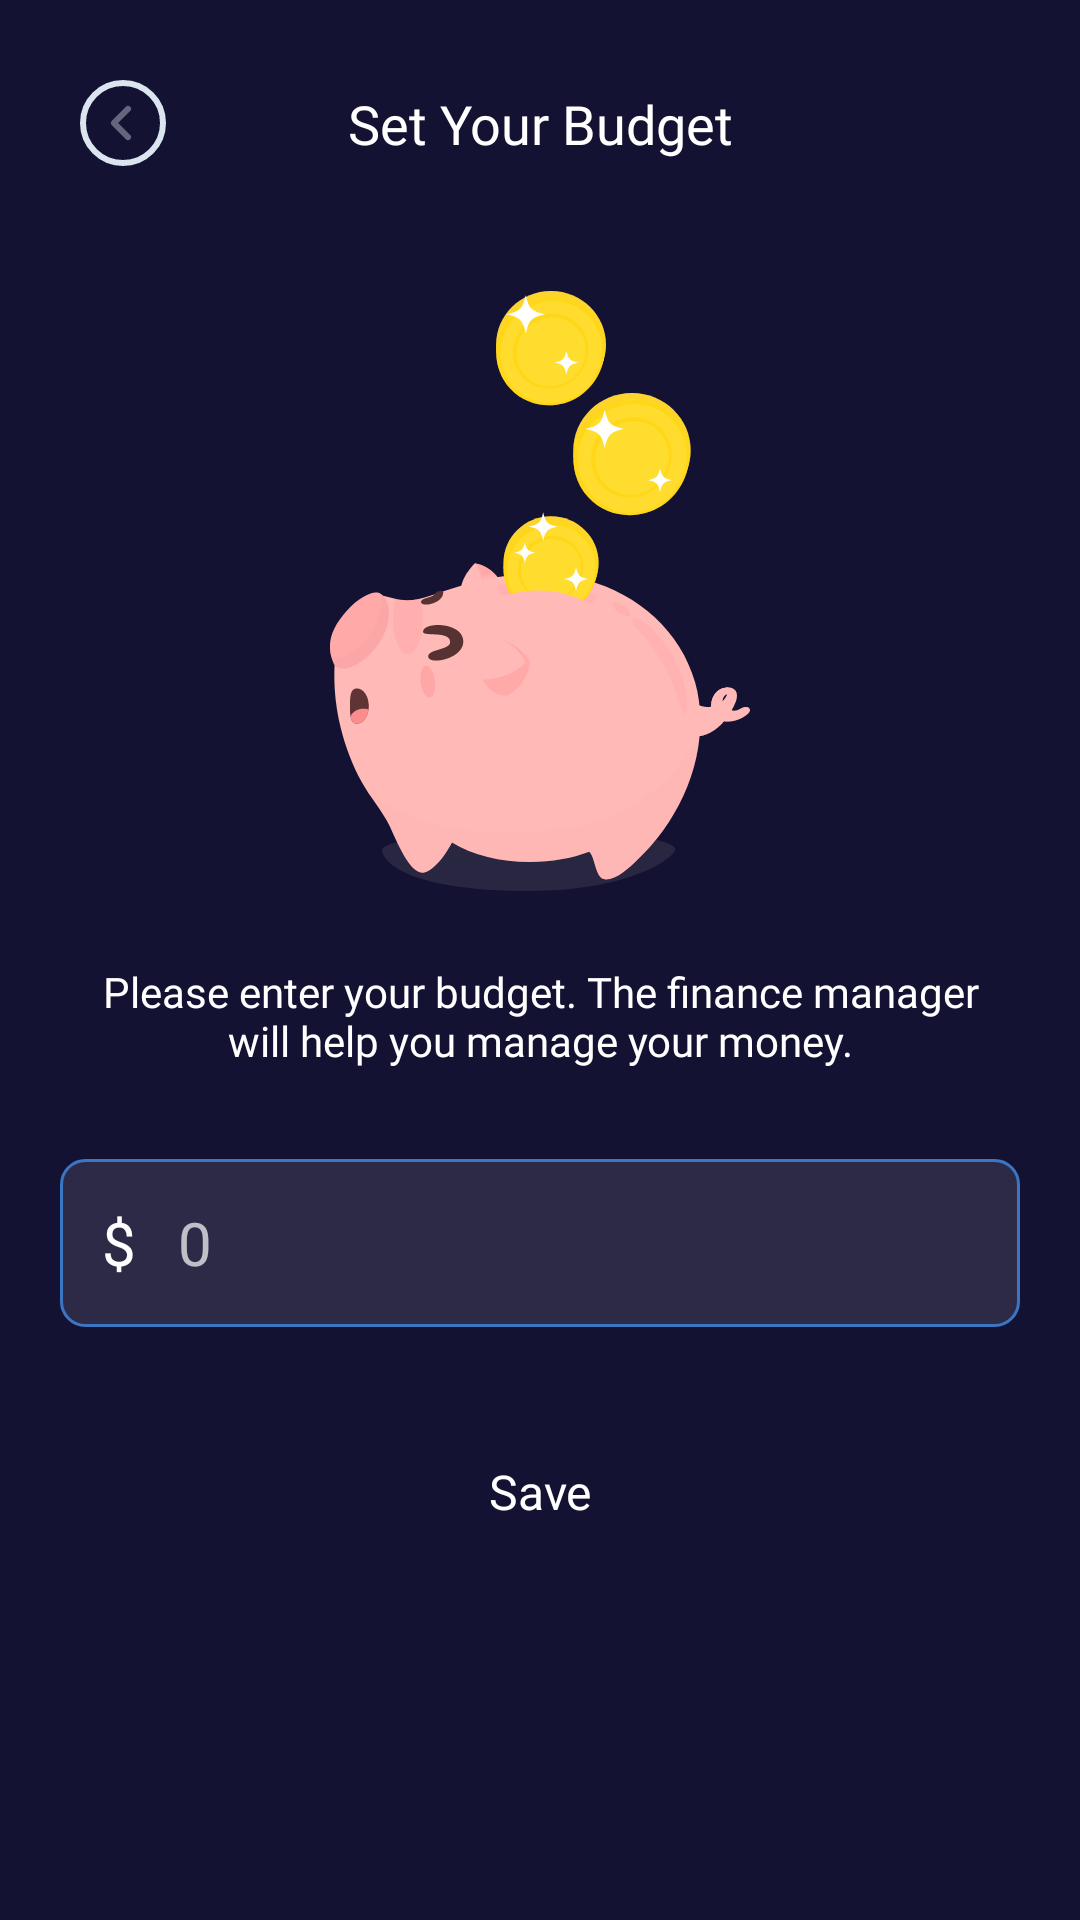

Icon click points for this 1080*1920 phone screenshot, format point (x, y):
back: point (123, 123)
